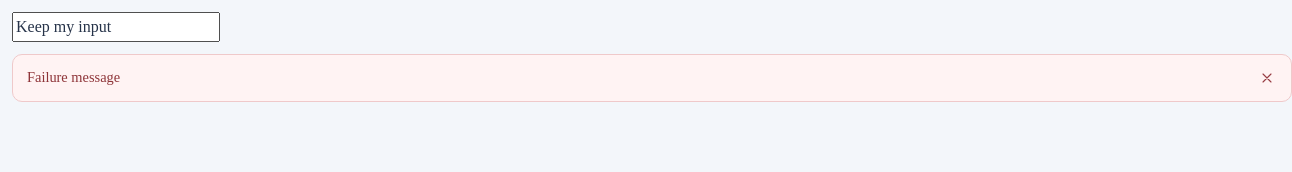
dismisses an inline error inside a form without submitting or losing input
The width and height of the screenshot is (1292, 172).
Expected: the message reads "Failure message", [27,69,120,85]
Click the button named "Закрити помилку" at (1267, 78), box [1253,64,1281,92]
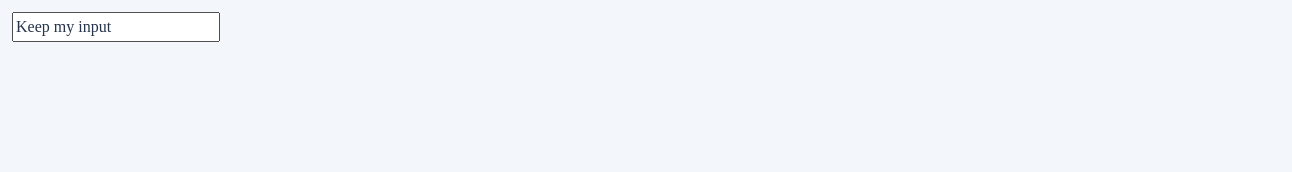
Expected: the field named "Draft" holds "Keep my input", [12,12,220,42]
Expected: the message "Failure message" is gone
